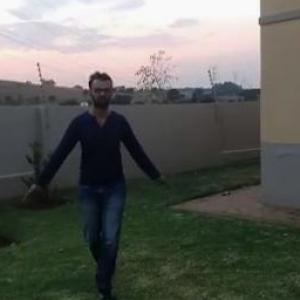land: (15, 60, 178, 299)
